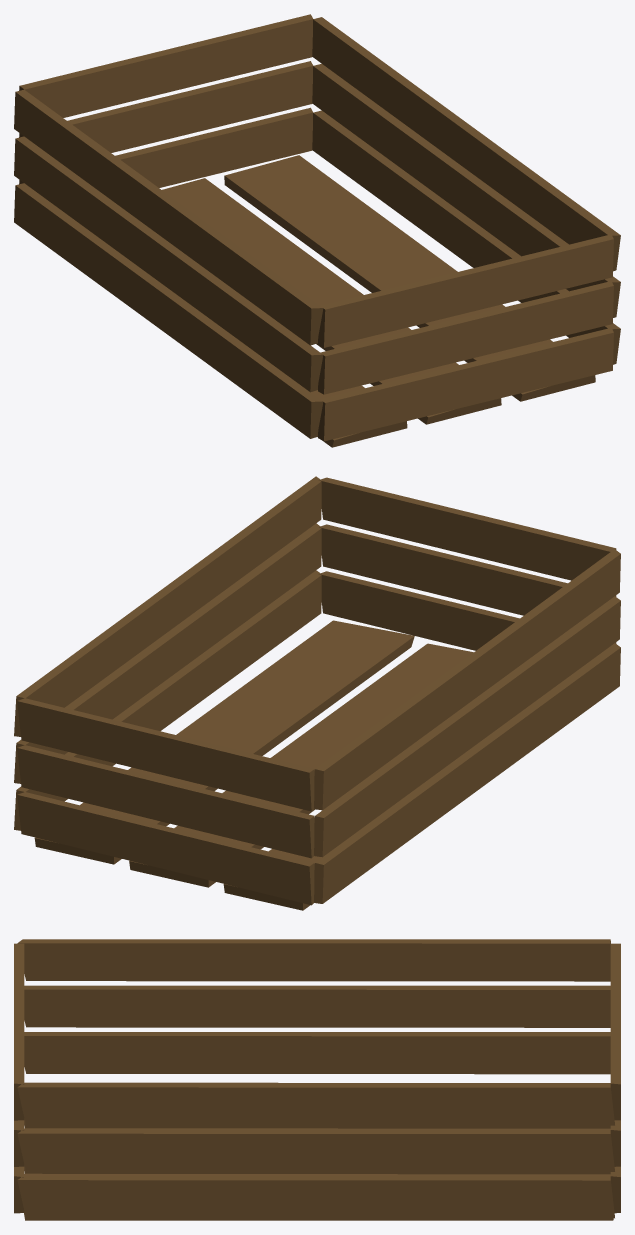
The picture shows the model from 3 angles, top to bottom: view 1: azimuth 30°, elevation 25°; view 2: azimuth 150°, elevation 25°; view 3: azimuth 270°, elevation 25°; orthographic projection.
Parts seen in each view (by area): view 1: Cube.001, Cube.003, Cube.002, Cube.004, Cube; view 2: Cube.001, Cube.004, Cube.002, Cube.003, Cube; view 3: Cube.002, Cube.001, Cube, Cube.004, Cube.003.
Part boxes in pixels (x1,y1,x2,y2): Cube.001: (14, 89, 323, 438); Cube.003: (318, 234, 613, 441); Cube.002: (312, 17, 620, 364); Cube.004: (19, 14, 313, 187); Cube: (162, 155, 595, 447); Cube.001: (314, 549, 620, 903); Cube.004: (17, 698, 314, 905); Cube.002: (14, 476, 321, 830); Cube.003: (319, 477, 616, 650); Cube: (34, 620, 473, 910); Cube.002: (17, 1083, 614, 1218); Cube.001: (17, 939, 610, 1074); Cube: (24, 1082, 613, 1220); Cube.004: (610, 943, 620, 1213); Cube.003: (14, 943, 24, 1213).
Bounding box in the file's own units: 881 × 397 × 1522.
